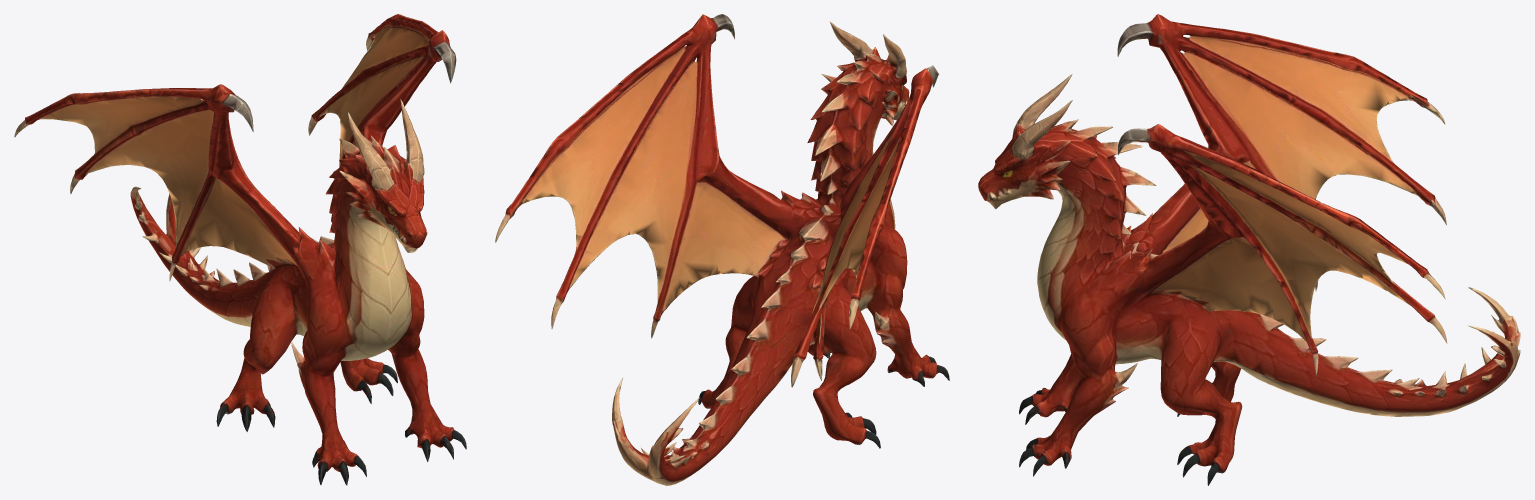
The model's file is dragon.glb.
The picture shows the model from 3 angles, left to right: view 1: azimuth 30°, elevation 25°; view 2: azimuth 150°, elevation 25°; view 3: azimuth 270°, elevation 25°; orthographic projection.
Visible parts, largest first — view 1: mesh_node; view 2: mesh_node; view 3: mesh_node.
Boxes of the visible parts, x1=… form: mesh_node: x1=14, y1=14, x2=466, y2=485; mesh_node: x1=495, y1=14, x2=949, y2=485; mesh_node: x1=978, y1=14, x2=1520, y2=485.
Bounding box in the file's own units: 1.46 × 1.44 × 1.9.
1 material, 1 textured.
